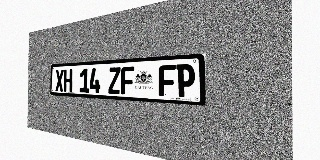1: (79, 68, 89, 93)
4: (90, 68, 100, 93)
F: (159, 64, 176, 97), (121, 66, 134, 95)
H: (64, 69, 72, 92)
P: (176, 64, 195, 98)
X: (55, 70, 64, 92)
Z: (108, 67, 121, 94)
